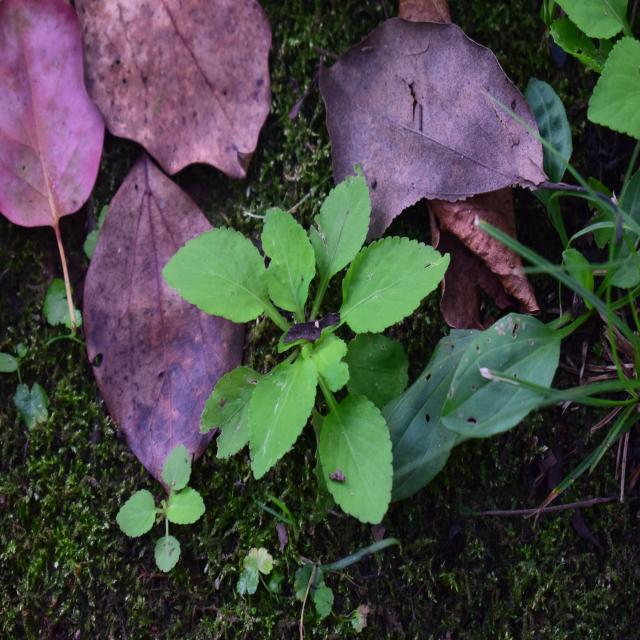Viola: (189, 198, 439, 526)
